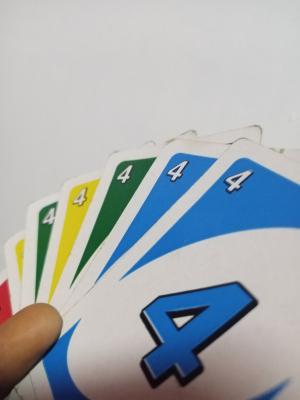blue: (150, 176, 299, 386)
green: (105, 160, 127, 233)
num_4: (222, 163, 256, 199), (163, 155, 191, 188), (68, 186, 94, 210), (114, 163, 139, 186), (41, 208, 56, 228)
yellow: (64, 186, 76, 258)
